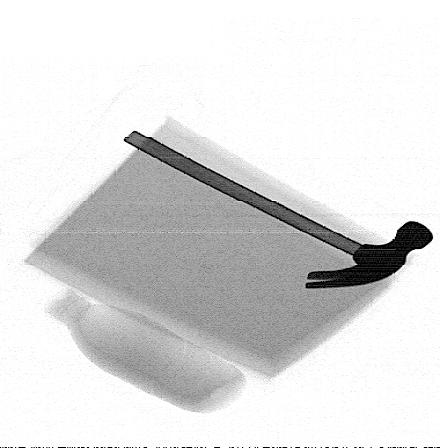Hammer: (125, 130, 434, 289)
